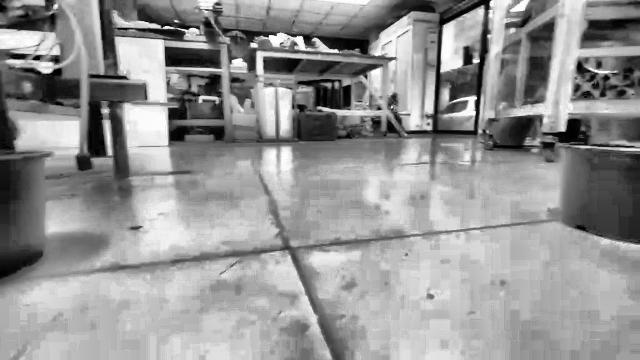pot: (561, 143, 639, 244), (0, 150, 51, 272)
